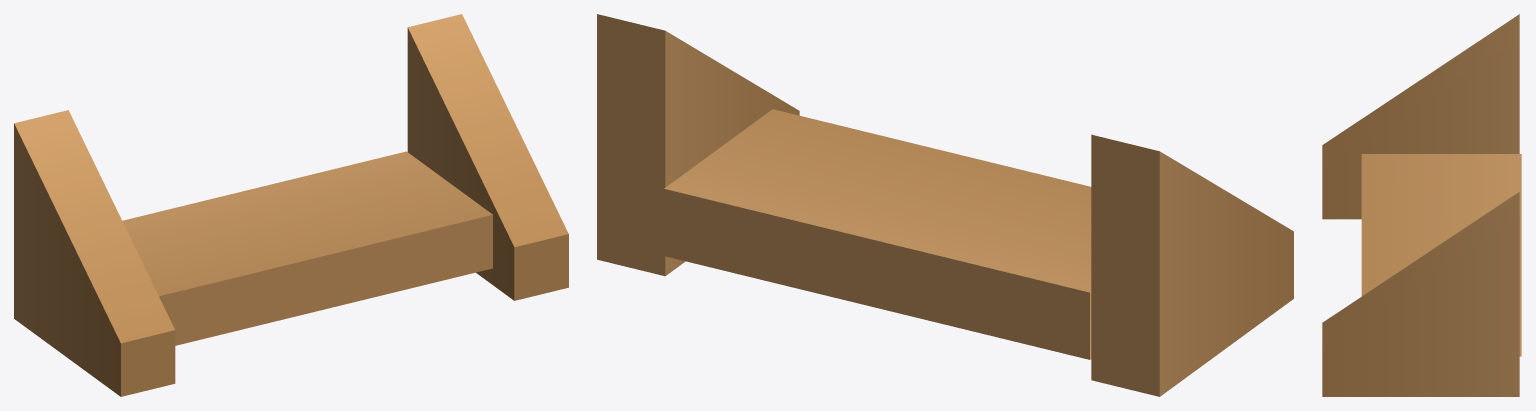
The model's file is House_Stairs.fbx.
The picture shows the model from 3 angles, left to right: view 1: azimuth 30°, elevation 25°; view 2: azimuth 150°, elevation 25°; view 3: azimuth 270°, elevation 25°; orthographic projection. The views are drawn at different scales.
Visible parts, largest first — view 1: House_Stairs; view 2: House_Stairs; view 3: House_Stairs.
Boxes of the visible parts, x1,y1,x2,y2 form: House_Stairs: [14, 14, 568, 396]; House_Stairs: [597, 14, 1293, 396]; House_Stairs: [1322, 14, 1521, 396].
Size of the model in its own units: 1.08 by 0.45 by 0.45.
Materials: 1 (1 with a texture image).
